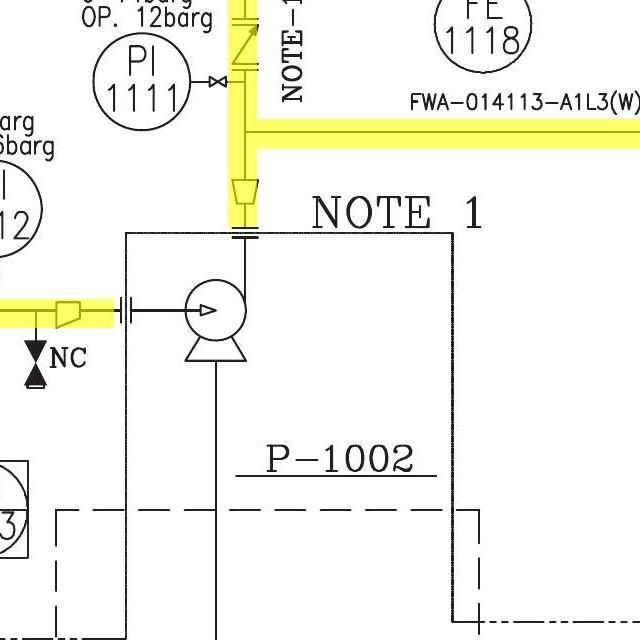P: (179, 275, 256, 373)
SP: (52, 296, 85, 335), (229, 173, 262, 207)
